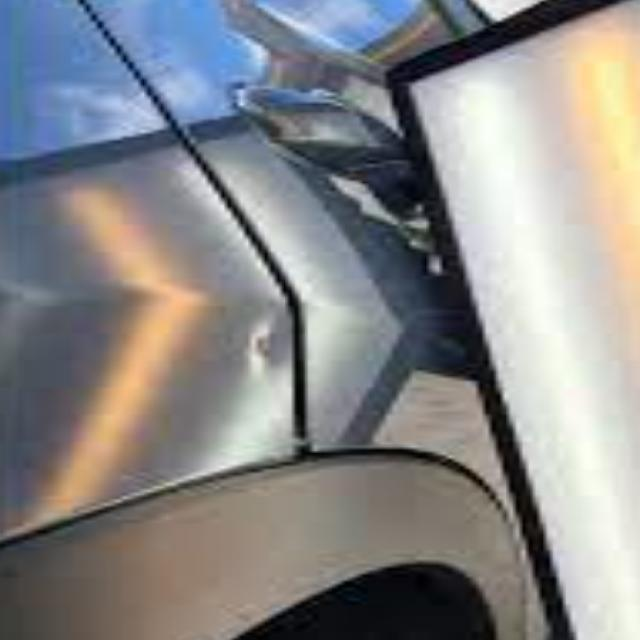dents: (208, 288, 364, 386)
